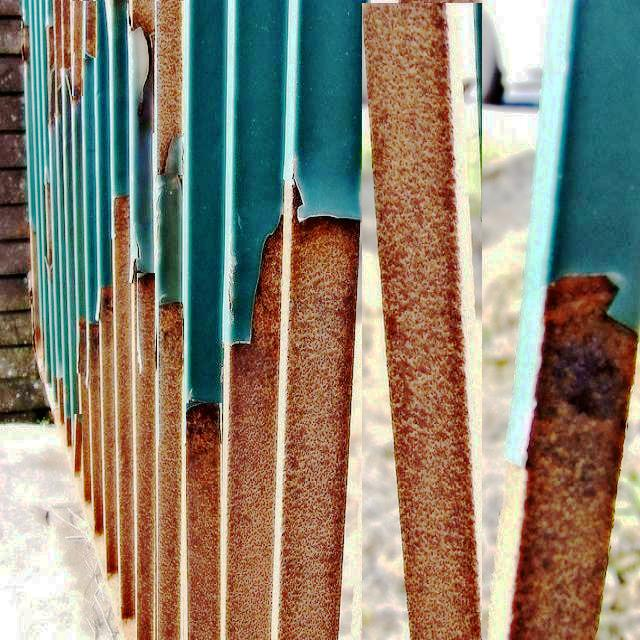Corrosion: (365, 2, 482, 640), (509, 276, 639, 640), (279, 185, 360, 640), (224, 227, 283, 640), (112, 195, 135, 621), (156, 303, 183, 640), (185, 404, 221, 640), (132, 273, 155, 640), (133, 274, 155, 640), (99, 287, 118, 576), (155, 0, 182, 174), (53, 387, 89, 488), (46, 25, 61, 86), (130, 0, 155, 36), (130, 0, 155, 34), (83, 0, 96, 58), (60, 0, 70, 74)
